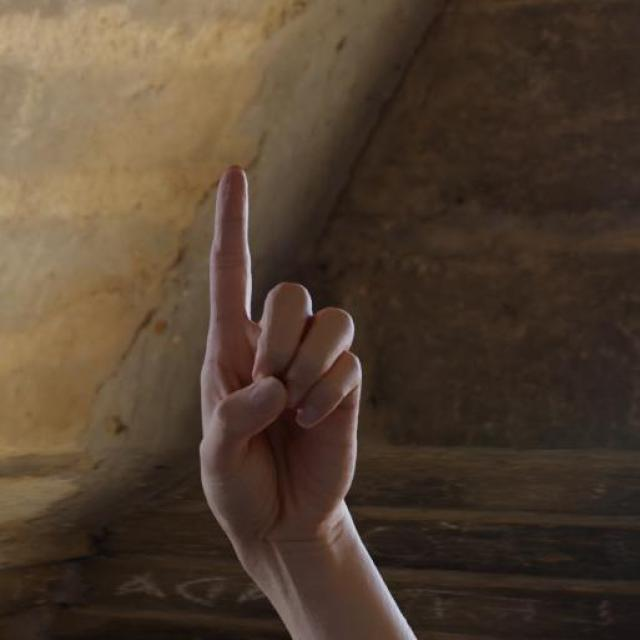X: (197, 163, 366, 532)
